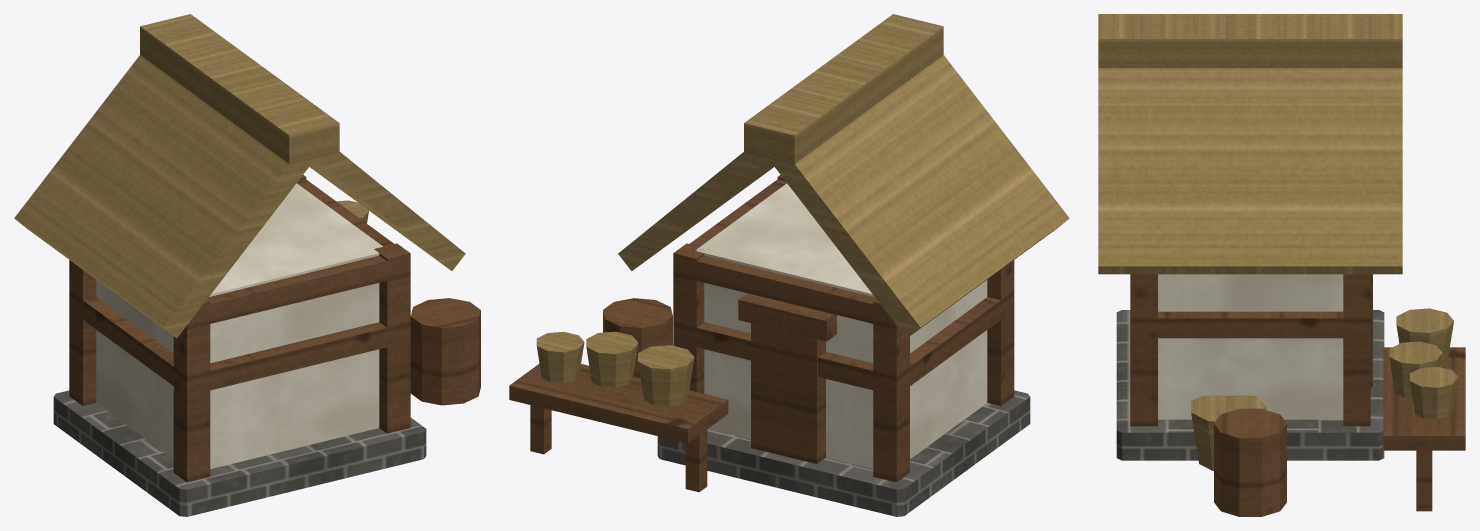
Rendered from gatherer.gltf.
3 views of the same model, side by side, from view 1: azimuth 30°, elevation 25°; view 2: azimuth 150°, elevation 25°; view 3: azimuth 270°, elevation 25° (orthographic). The views are drawn at different scales.
Visible parts, largest first — view 1: Gatherer; view 2: Gatherer; view 3: Gatherer.
Part boxes in pixels (left/top/right/bottom): Gatherer: left=14, top=14, right=480, bottom=516; Gatherer: left=509, top=14, right=1069, bottom=516; Gatherer: left=1098, top=14, right=1465, bottom=516.
Size of the model in its own units: 1.99 by 1.8 by 1.61.
5 materials, 5 textured.
